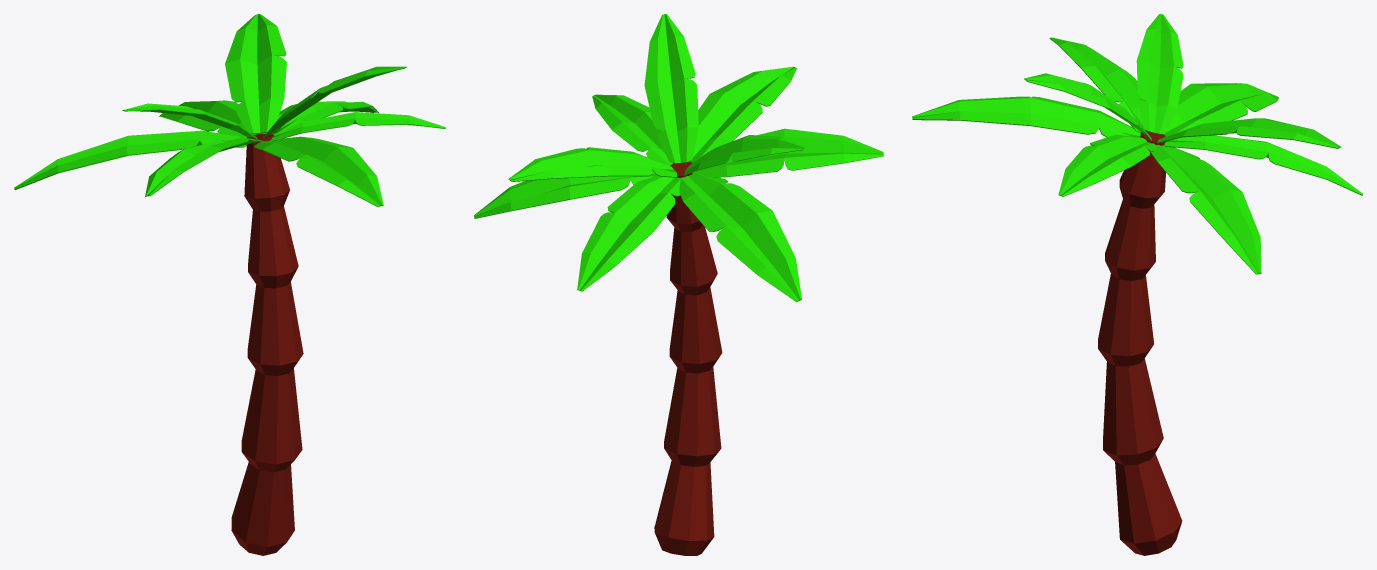
The model's file is PalmTree.fbx.
The picture shows the model from 3 angles, left to right: view 1: azimuth 30°, elevation 25°; view 2: azimuth 150°, elevation 25°; view 3: azimuth 270°, elevation 25°; orthographic projection. The views are drawn at different scales.
Parts seen in each view (by area): view 1: Trunk, Leaf.006, Leaf.003, Leaf.005, Leaf.002, Leaf.004, Leaf, Leaf.007, Leaf.001, Leaf.008; view 2: Trunk, Leaf.005, Leaf.007, Leaf, Leaf.003, Leaf.004, Leaf.006, Leaf.001, Leaf.002, Leaf.008; view 3: Trunk, Leaf.001, Leaf.003, Leaf.008, Leaf.005, Leaf.002, Leaf, Leaf.004, Leaf.006, Leaf.007.
Boxes of the visible parts, x1,y1,x2,y2 form: Trunk: (231, 133, 303, 555); Leaf.006: (225, 14, 286, 133); Leaf.003: (254, 136, 383, 207); Leaf.005: (14, 130, 247, 189); Leaf.002: (270, 112, 445, 141); Leaf.004: (145, 137, 264, 196); Leaf: (159, 100, 266, 137); Leaf.007: (263, 66, 407, 138); Leaf.001: (272, 101, 378, 134); Leaf.008: (122, 103, 257, 139); Trunk: (654, 161, 722, 555); Leaf.005: (679, 174, 801, 302); Leaf.007: (644, 14, 698, 163); Leaf: (577, 175, 680, 291); Leaf.003: (690, 66, 796, 162); Leaf.004: (692, 128, 883, 177); Leaf.006: (508, 147, 677, 181); Leaf.001: (474, 170, 657, 218); Leaf.002: (592, 94, 672, 165); Leaf.008: (684, 135, 804, 175); Trunk: (1098, 130, 1182, 555); Leaf.001: (1150, 145, 1261, 274); Leaf.003: (912, 96, 1140, 137); Leaf.008: (1136, 14, 1183, 134); Leaf.005: (1164, 83, 1278, 136); Leaf.002: (1058, 134, 1156, 196); Leaf: (1164, 135, 1362, 195); Leaf.004: (1049, 37, 1145, 132); Leaf.006: (1157, 118, 1341, 148); Leaf.007: (1024, 73, 1151, 141).
Size of the model in its own units: 453 by 616 by 493.
